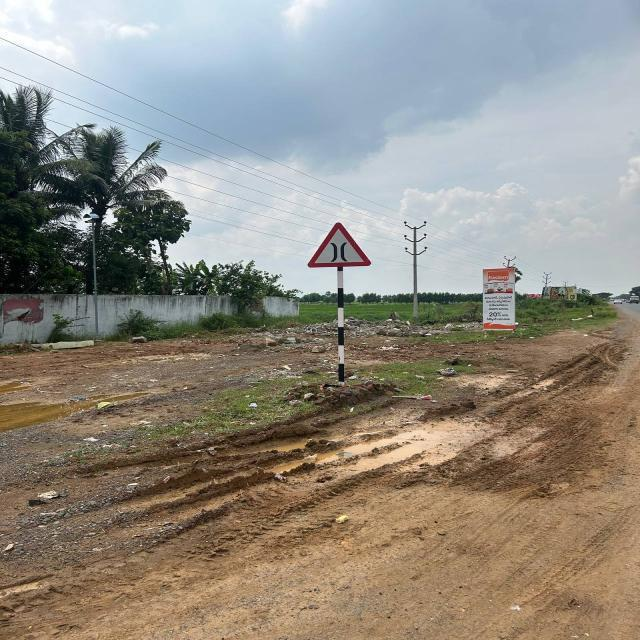narrow bridge ahead: (308, 223, 373, 269)
